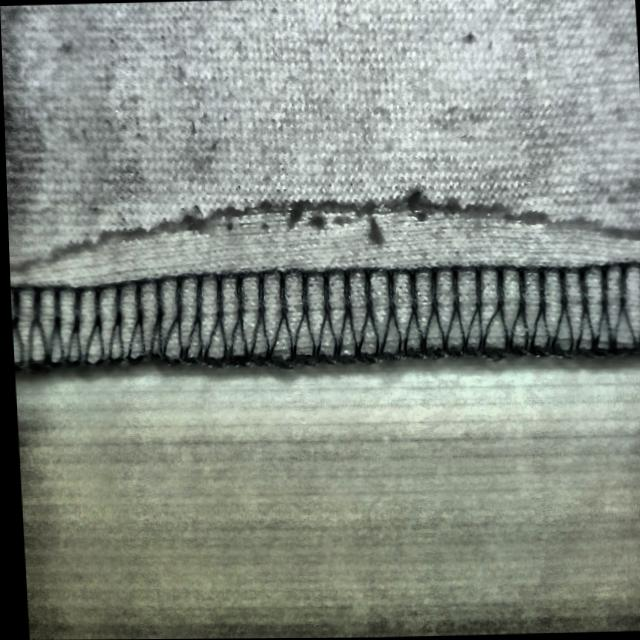seam: (5, 157, 640, 374)
